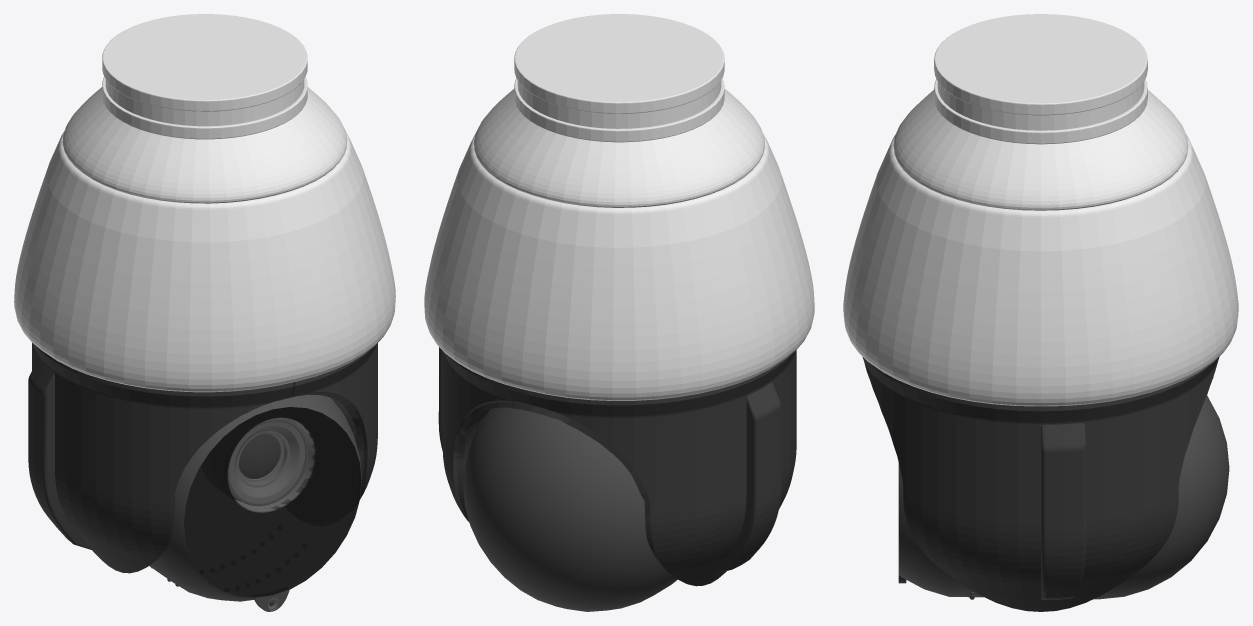
3 views of the same model, side by side, from view 1: azimuth 30°, elevation 25°; view 2: azimuth 150°, elevation 25°; view 3: azimuth 270°, elevation 25° (orthographic). The views are drawn at different scales.
Parts seen in each view (by area): view 1: Circle202, Circle201, Circle203, object 1, Sphere008, Circle204, archmodels95_051_008, archmodels95_051_010, archmodels95_051_009; view 2: Circle202, Circle201, Circle203, Sphere008; view 3: Circle202, Circle203, Circle201, Sphere008.
Boxes of the visible parts, box(x1,y1,x2,y2) form: Circle202: box(14, 130, 395, 392); Circle201: box(62, 14, 347, 203); Circle203: box(28, 343, 377, 573); object 1: box(184, 407, 361, 597); Sphere008: box(149, 394, 361, 601); Circle204: box(228, 418, 314, 510); archmodels95_051_008: box(229, 421, 305, 503); archmodels95_051_010: box(238, 433, 280, 478); archmodels95_051_009: box(227, 417, 308, 506); Circle202: box(424, 133, 814, 400); Circle201: box(474, 14, 764, 207); Circle203: box(438, 347, 796, 586); Sphere008: box(463, 407, 677, 611); Circle202: box(843, 135, 1238, 406); Circle203: box(862, 357, 1219, 611); Circle201: box(893, 14, 1188, 210); Sphere008: box(898, 395, 1229, 599).
Bounding box in the file's own units: 0.5402 × 0.7976 × 0.5402.
Materials: 9 (1 with a texture image).
